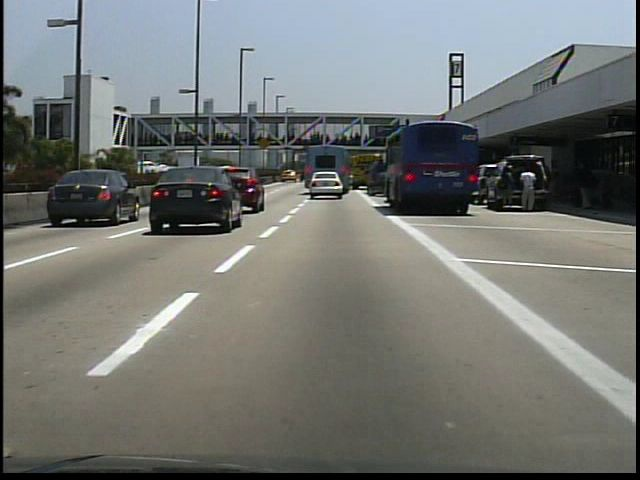person: (496, 163, 520, 218), (518, 161, 539, 215), (576, 163, 594, 211)
